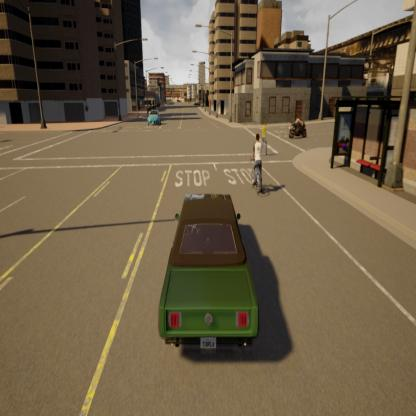Cars: (160, 183, 258, 362), (147, 107, 163, 130)
Pedestrian: (255, 110, 273, 159)
